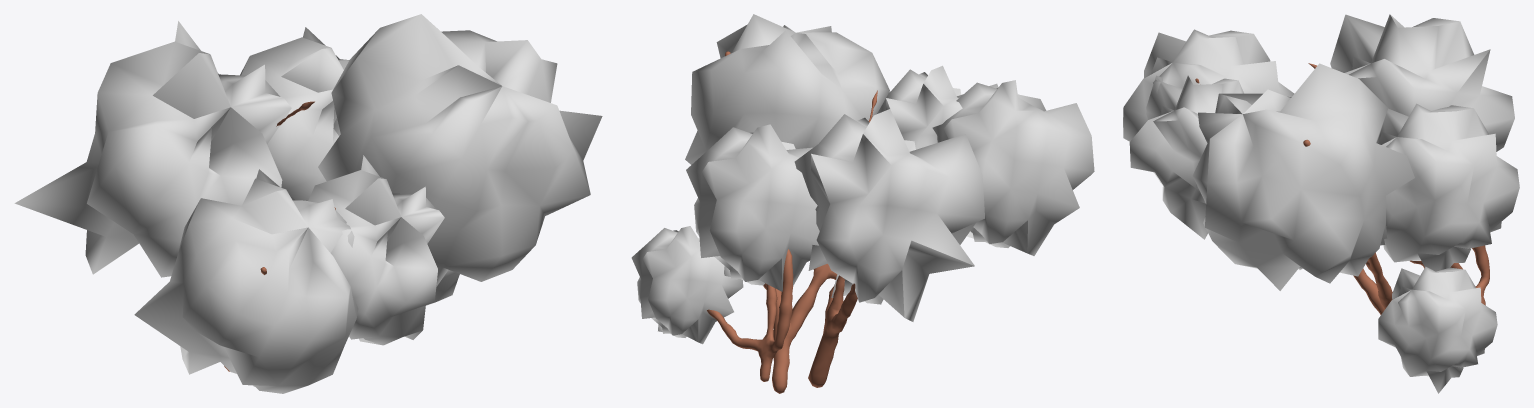
The model's file is Bush2.fbx.
3 renders of one model, left to right at view 1: azimuth 30°, elevation 25°; view 2: azimuth 150°, elevation 25°; view 3: azimuth 270°, elevation 25°, orthographic. The views are drawn at different scales.
Parts seen in each view (by area): view 1: Bush2; view 2: Bush2; view 3: Bush2.
Boxes of the visible parts, x1,y1,x2,y2 form: Bush2: (14, 14, 602, 393); Bush2: (631, 14, 1094, 393); Bush2: (1123, 14, 1519, 393).
Bounding box in the file's own units: 131 × 114 × 105.
